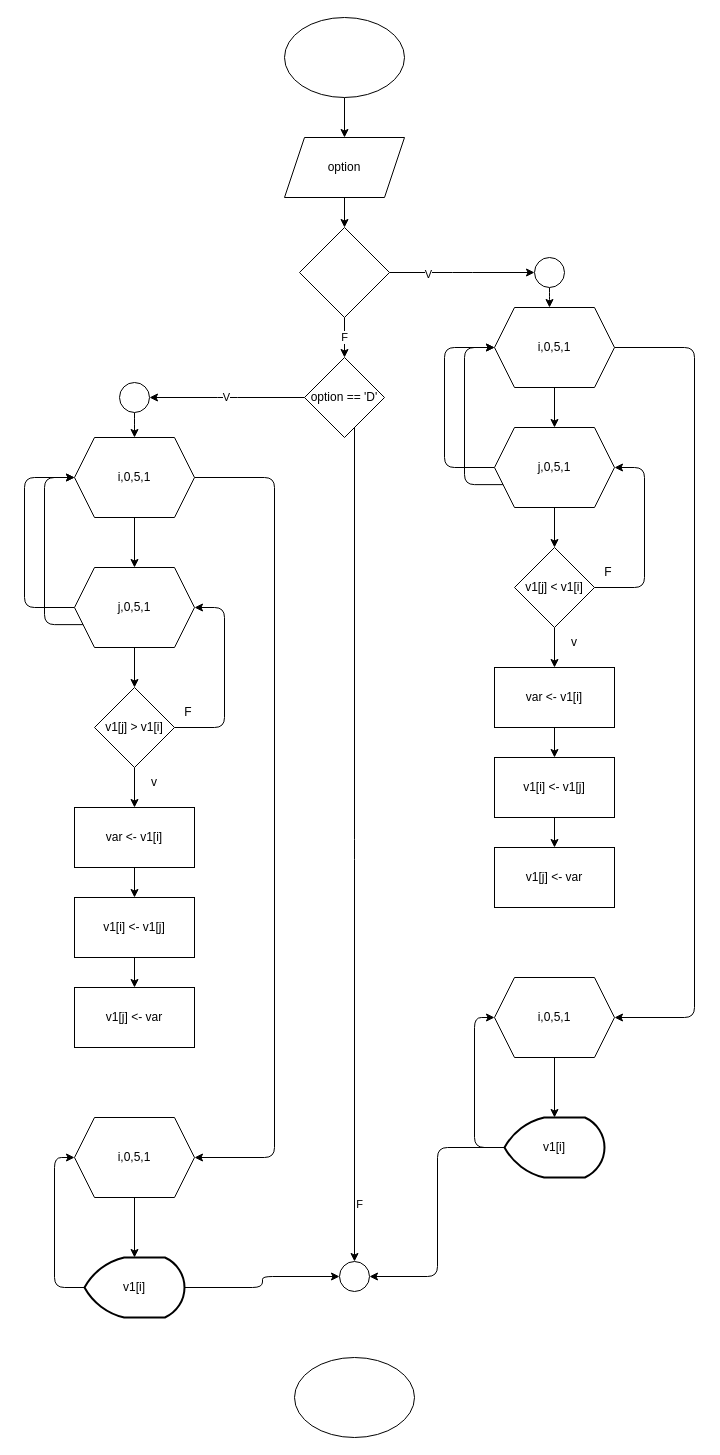
This 720x1455 diagram has some shape labels left out. The shapes that lost their labels are listed below. From the top down, each one's box as (x1, y1, x2, y2) in pixels, then its label:
(284, 16, 404, 98): início
(298, 226, 390, 318): option == 'C'
(294, 1356, 414, 1438): fim
